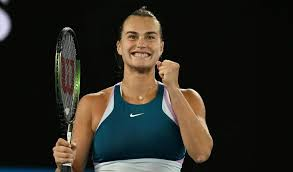tennis racket: (52, 25, 88, 172)
